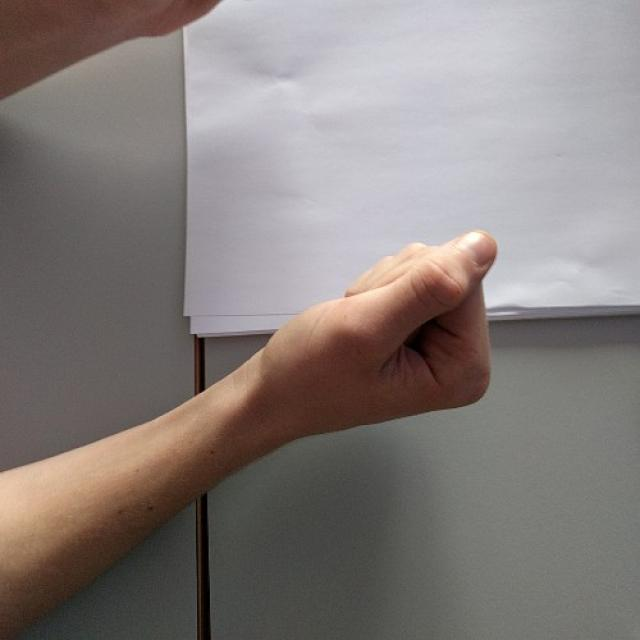fist: (238, 223, 506, 444)
